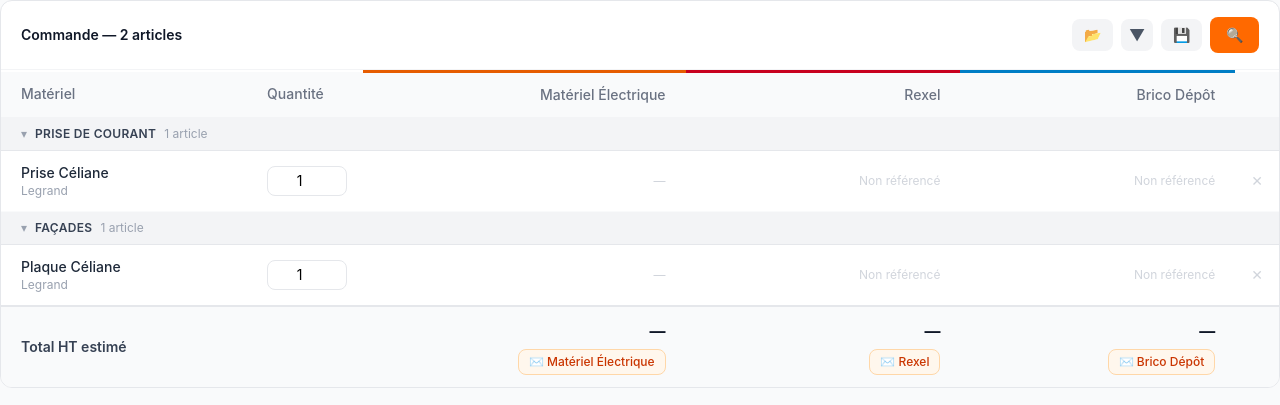
Test: CommandeTab › toggleCategory collapses and expands a category in the order table
Expected: the text "Prise Céliane" is shown, x1=21 y1=164 x2=109 y2=181
Click the cell named "Replier la catégorie Prise de courant": click(96, 134) x1=1 y1=118 x2=1279 y2=150
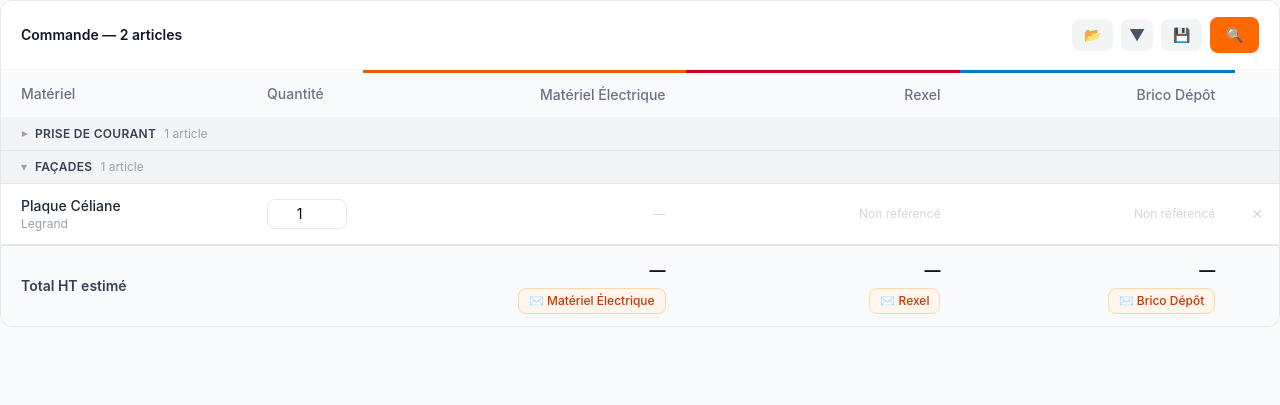
Result: the text "Prise Céliane" is gone
Click the cell named "Déplier la catégorie Prise de courant": click(96, 134) x1=1 y1=118 x2=1279 y2=150
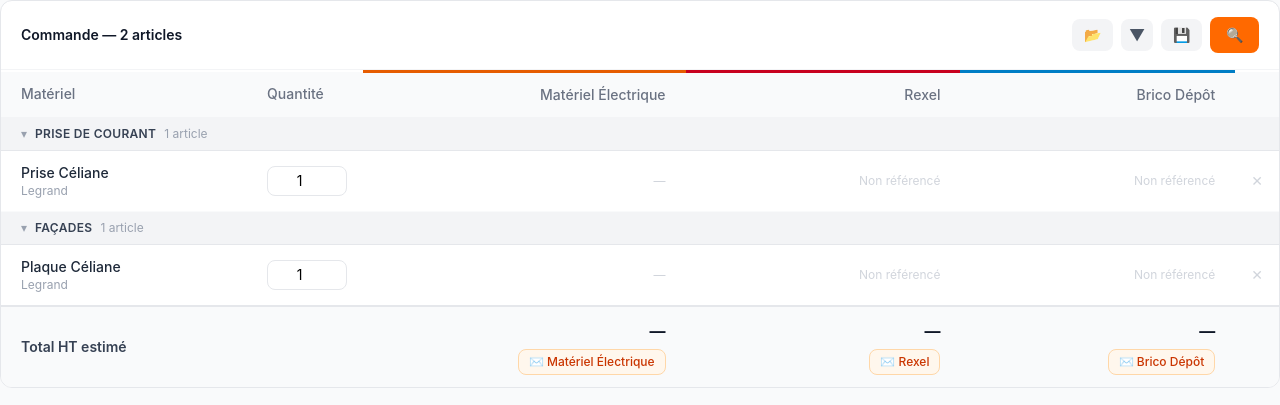
Result: the text "Prise Céliane" is shown at x1=21 y1=164 x2=109 y2=181
